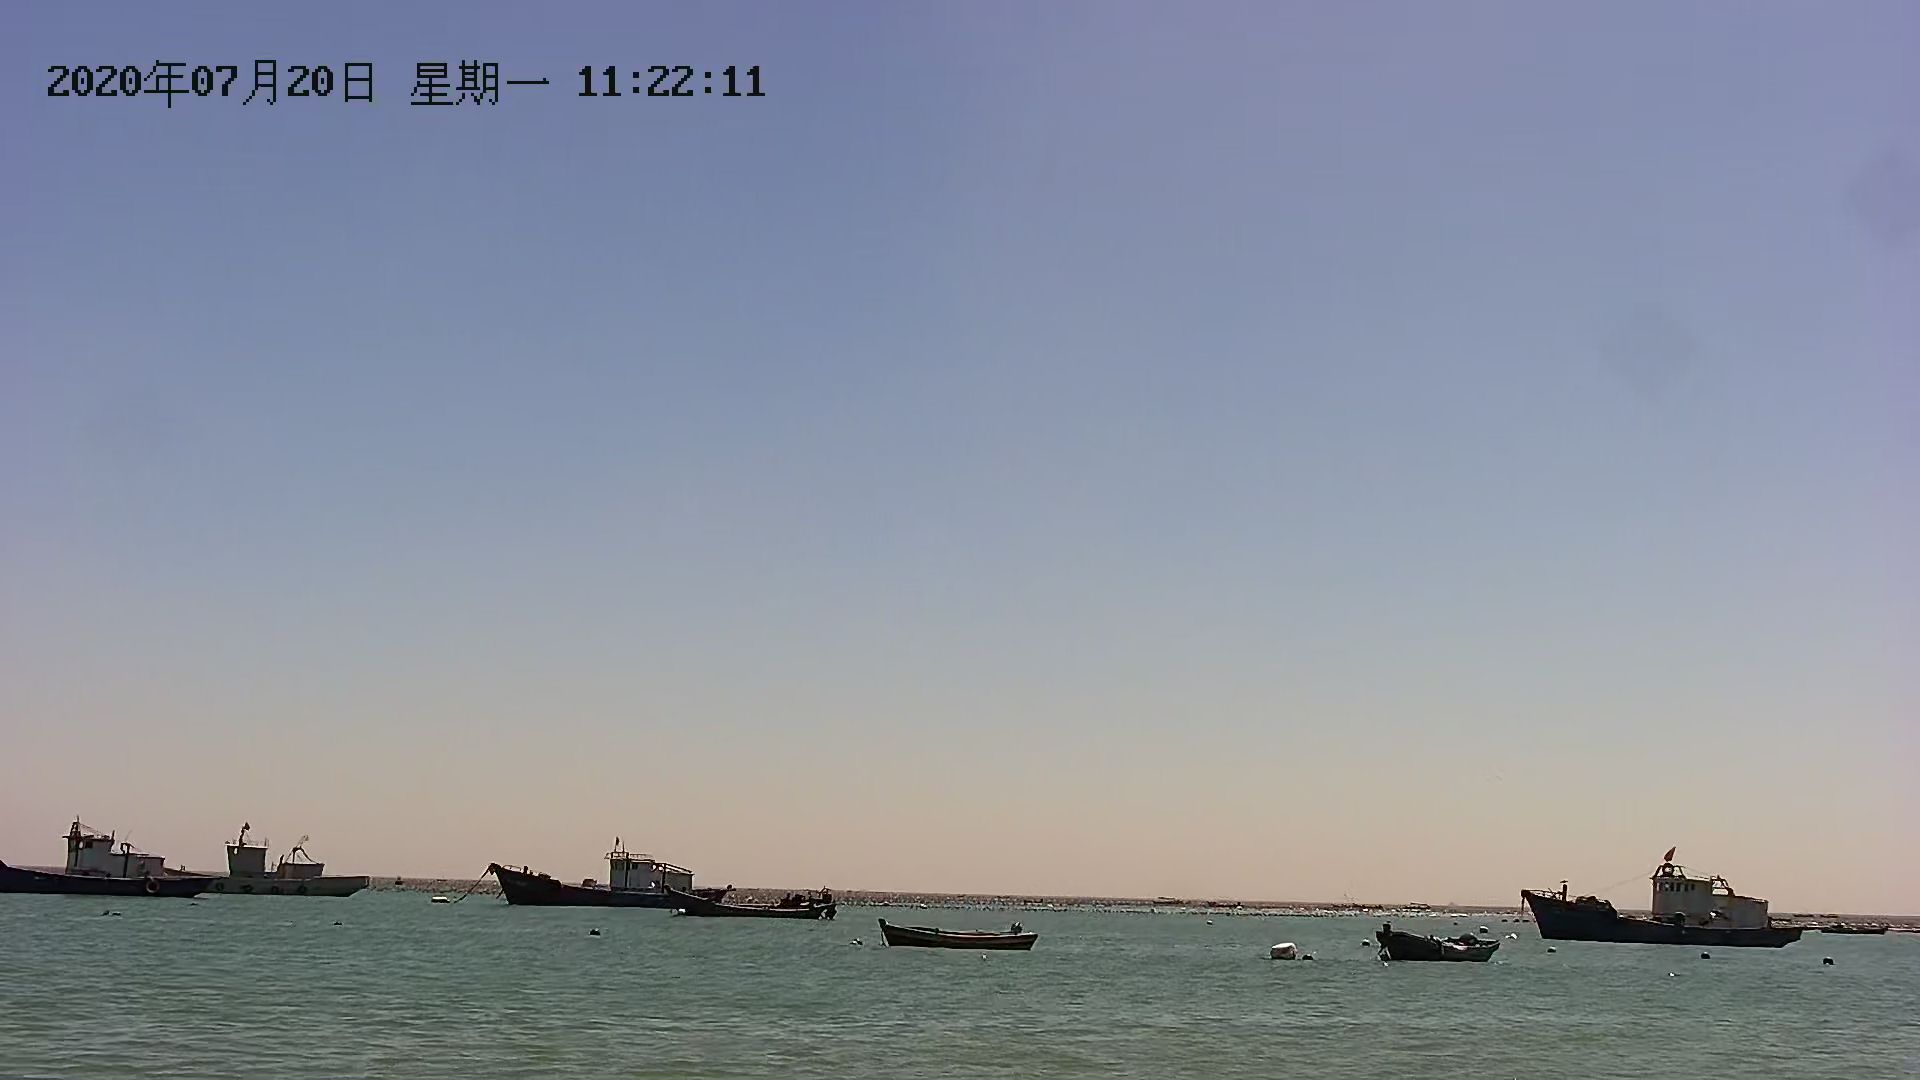ball: (1269, 940, 1305, 972)
boat: (12, 814, 372, 899), (1531, 860, 1811, 945), (495, 841, 736, 915), (663, 887, 848, 932), (873, 915, 1048, 956), (1377, 919, 1507, 967), (1818, 915, 1899, 938)
